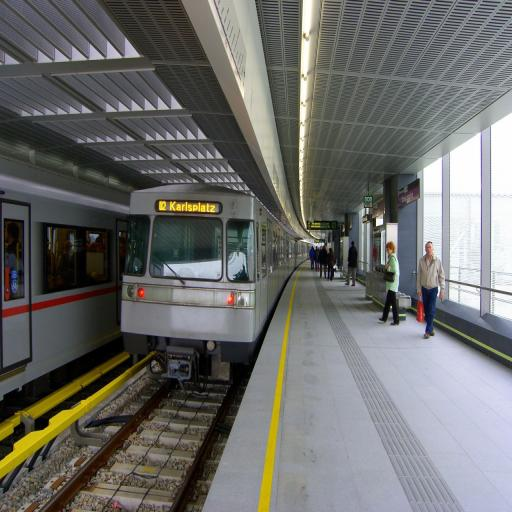Silberpfeil: (122, 186, 312, 348)
